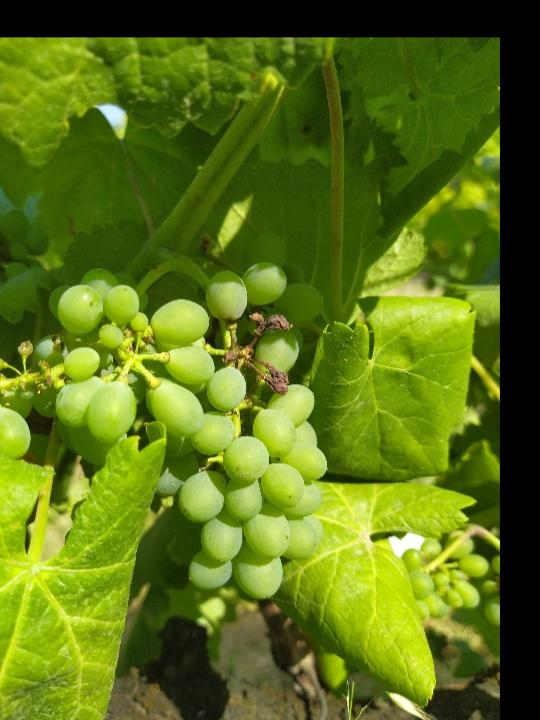grape: (0, 229, 330, 607)
